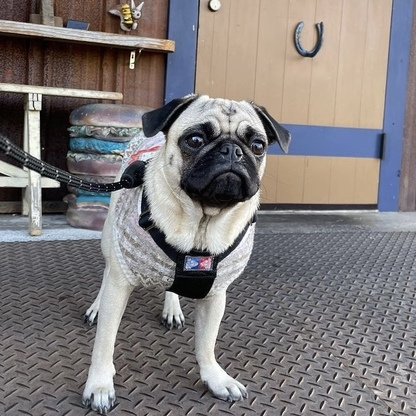Pug: (69, 88, 301, 416)
